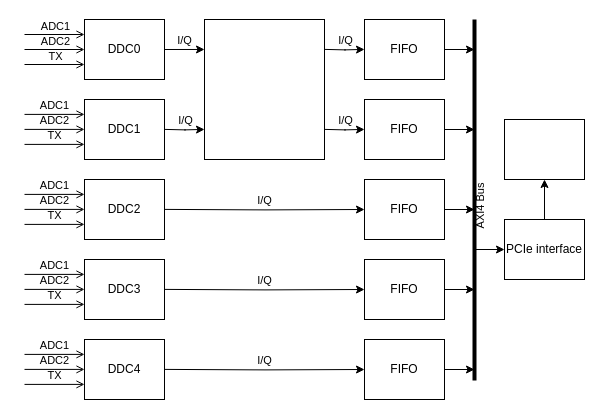
Image size: 602x417. Some labels were removed from this diagram. Each missing label, with the box of its shape:
Interleave or straight through: (204, 18, 324, 160)
Raspberry Pi4 CM: (504, 118, 584, 180)
